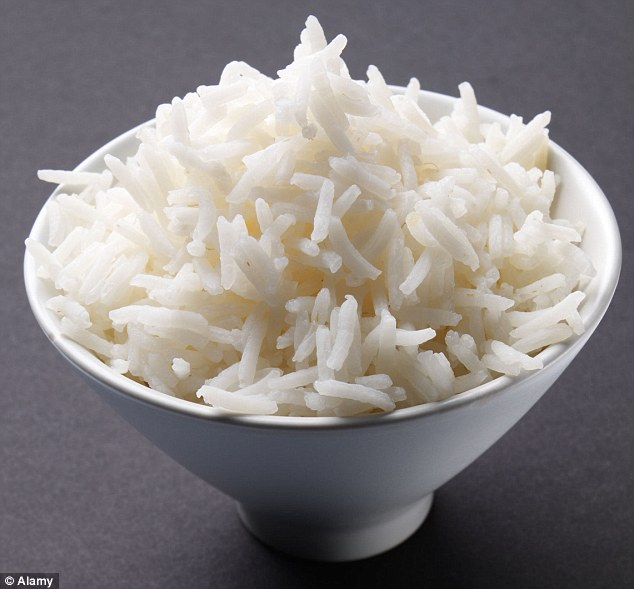plain rice: (80, 53, 579, 423)
